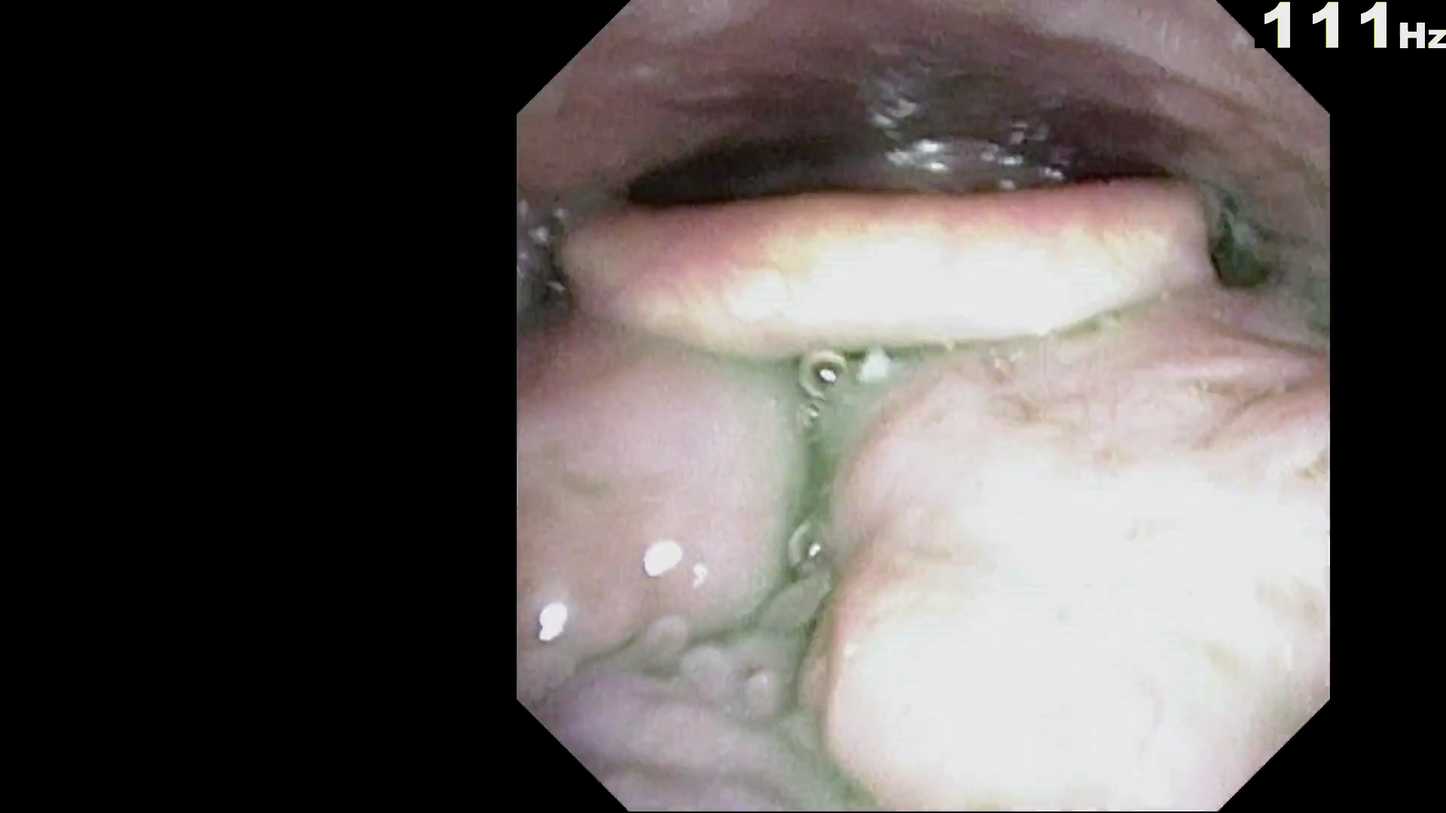epiglottis: (549, 174, 1242, 359)
